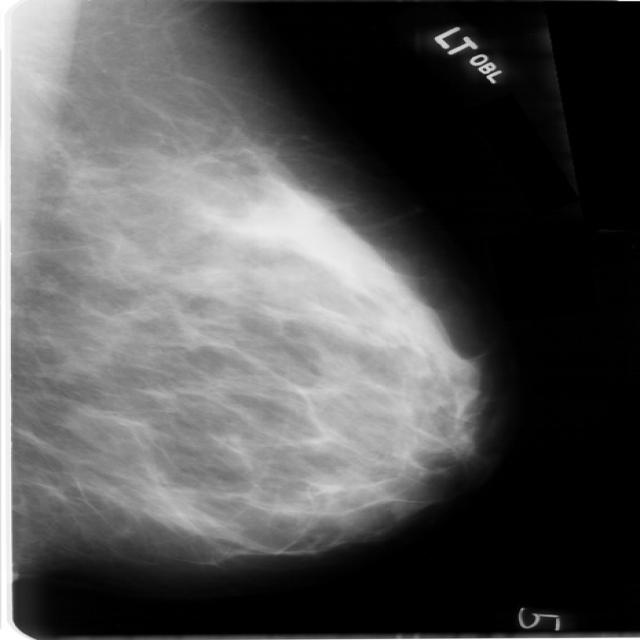tumour: (250, 260, 325, 300)
